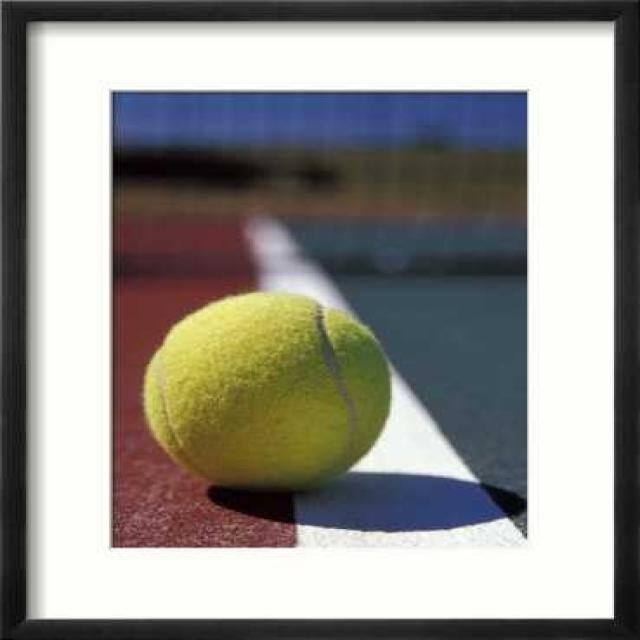Tennis_Ball: (141, 289, 395, 490)
